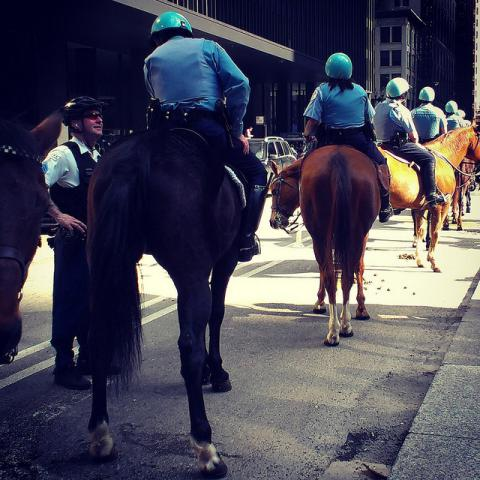car: (248, 136, 297, 194)
